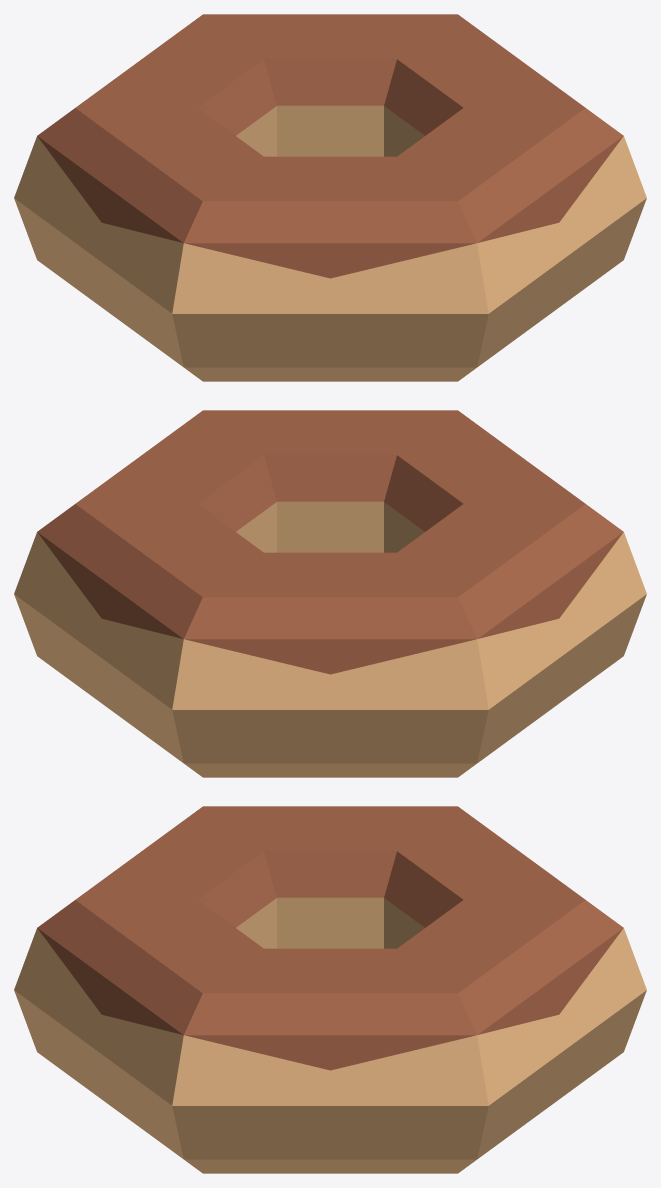
The model's file is donutChocolate.glb.
3 renders of one model, top to bottom at view 1: azimuth 30°, elevation 25°; view 2: azimuth 150°, elevation 25°; view 3: azimuth 270°, elevation 25°, orthographic.
Parts seen in each view (by area): view 1: donutChocolate; view 2: donutChocolate; view 3: donutChocolate.
Boxes of the visible parts, x1,y1,x2,y2 form: donutChocolate: [14, 14, 646, 381]; donutChocolate: [14, 410, 646, 777]; donutChocolate: [14, 806, 646, 1173].
Size of the model in its own units: 0.098 by 0.0356 by 0.1132.
